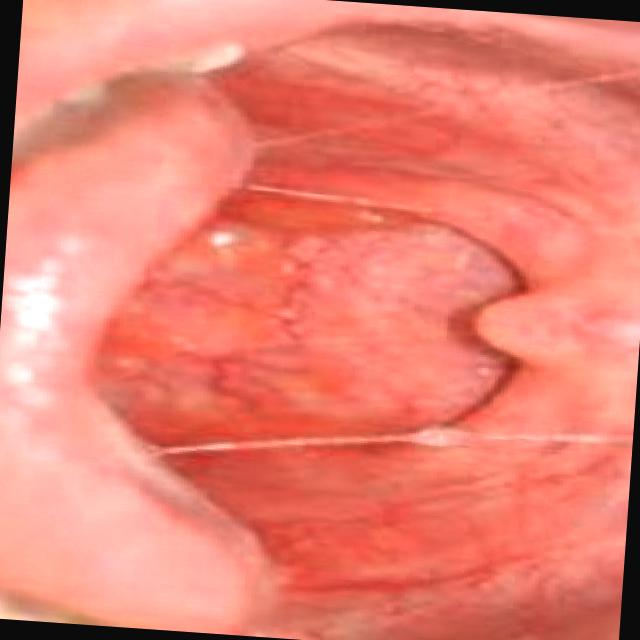Non Pharyngitis: (258, 147, 589, 513), (234, 0, 536, 138), (239, 549, 466, 640)
